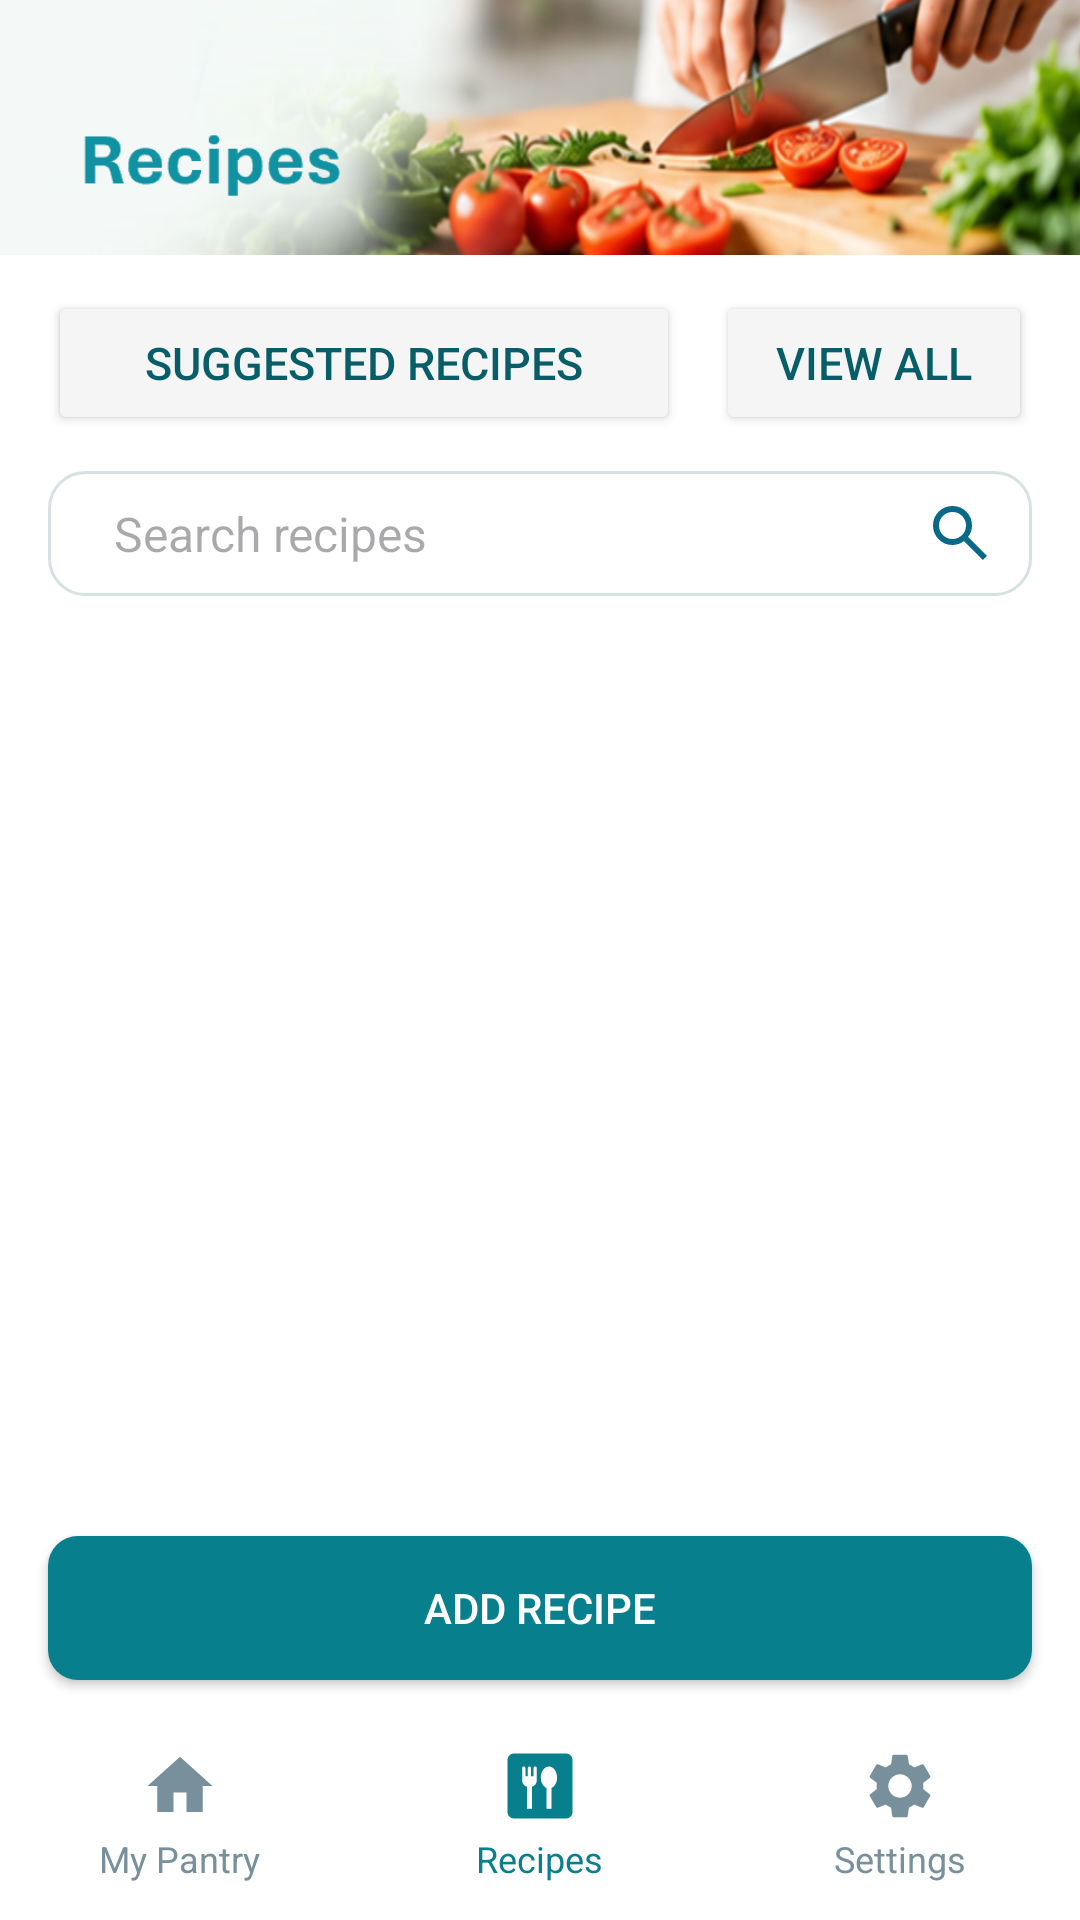

Screen size 1080w x 1920h. Icon name, then its box in pixels as (x1, y1, x2, y2):
Click to start the search: (933, 506, 987, 560)
